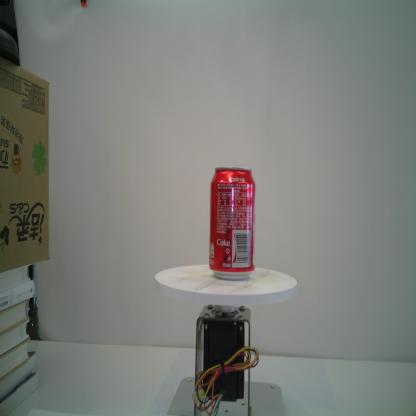Drink: (209, 167, 256, 280)
